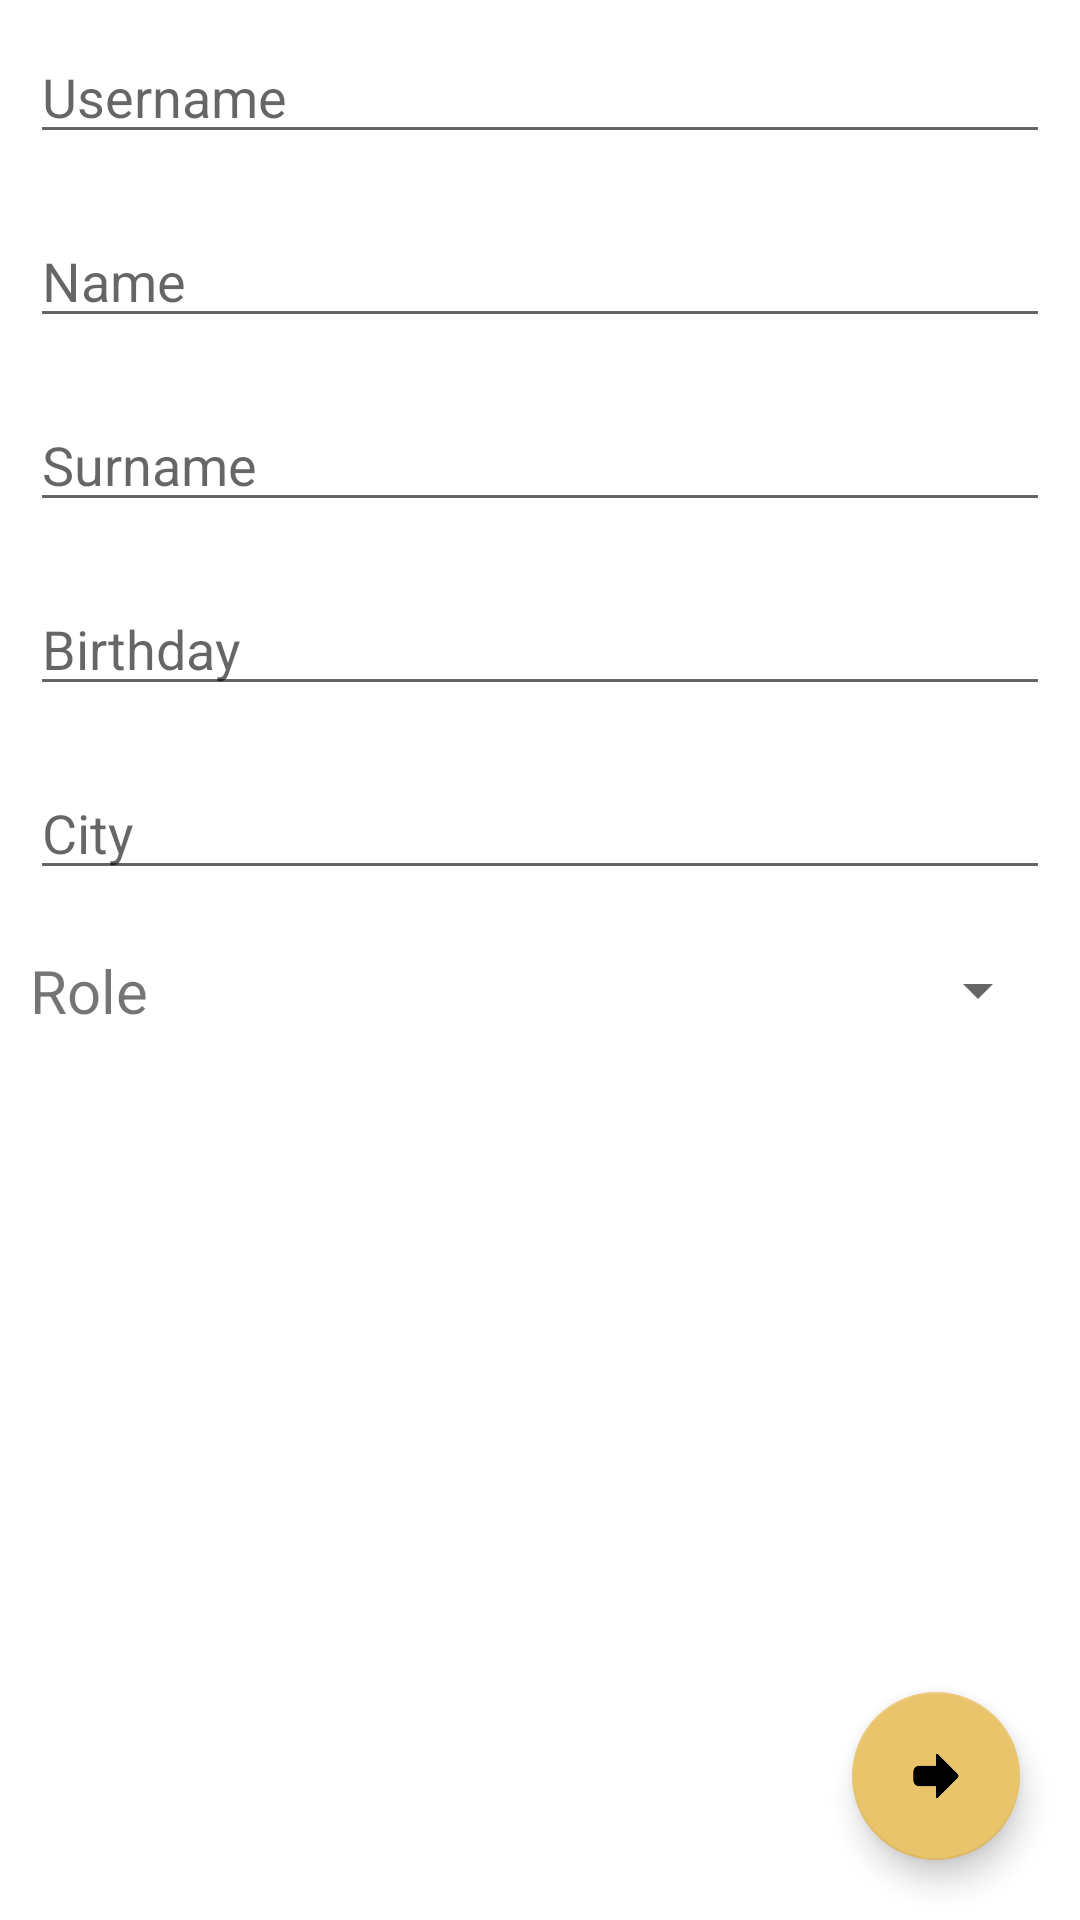

Icons on this 1080x1920 Android screen, each with the point to tap as (x=x, y=y):
next: (x=936, y=1776)
